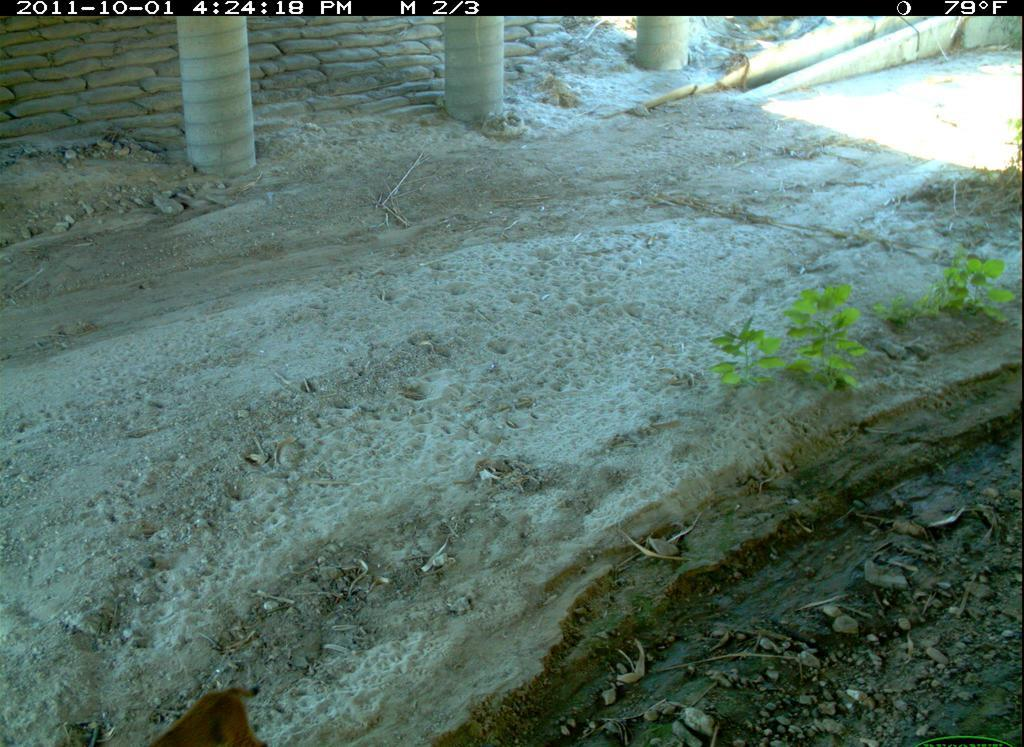bobcat: (129, 673, 304, 747)
